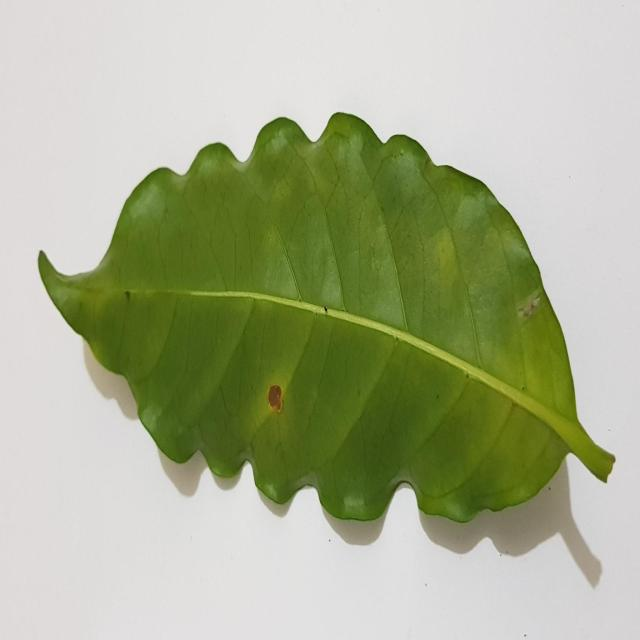Enfermedad-Mancha-de-hierro: (36, 112, 616, 525)
